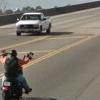Motorcycle: (3, 42, 45, 98)
